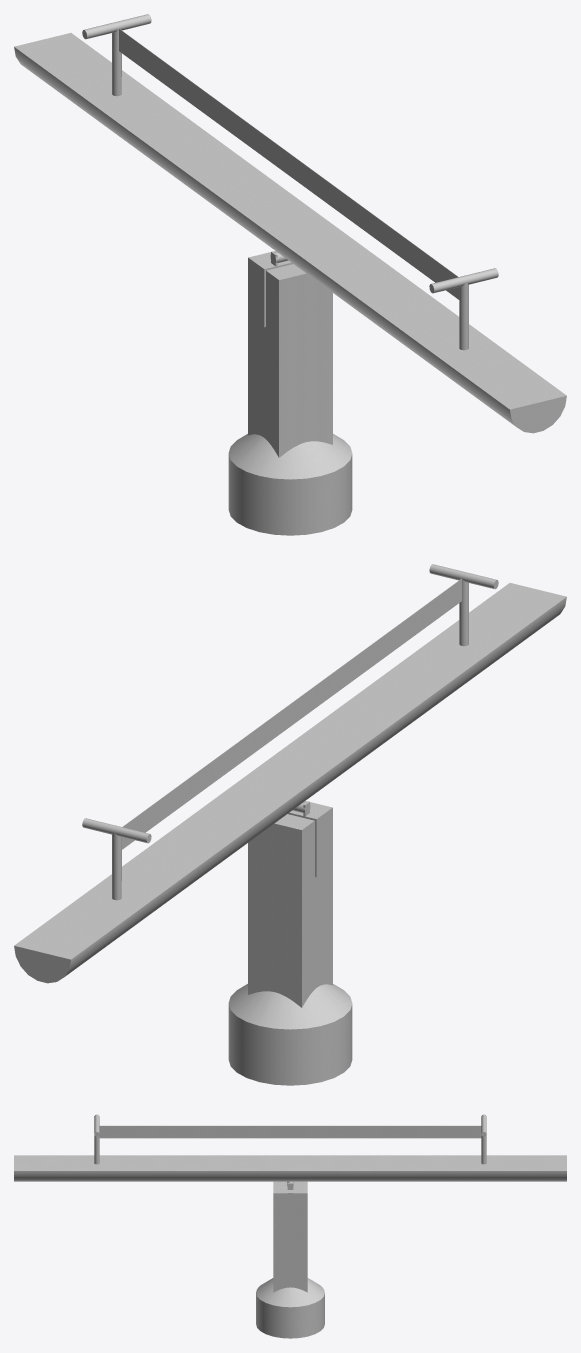
3 views of the same model, one above another, from view 1: azimuth 30°, elevation 25°; view 2: azimuth 150°, elevation 25°; view 3: azimuth 270°, elevation 25° (orthographic). The views are drawn at different scales.
Visible parts, largest first — view 1: Solid1; view 2: Solid1; view 3: Solid1.
Boxes of the visible parts, box(x1,y1,x2,y2) form: Solid1: box(14, 14, 566, 535); Solid1: box(14, 564, 566, 1085); Solid1: box(14, 1114, 566, 1338).
Size of the model in its own units: 0.5 by 1.6 by 4.
Materials: 1 (1 with a texture image).
